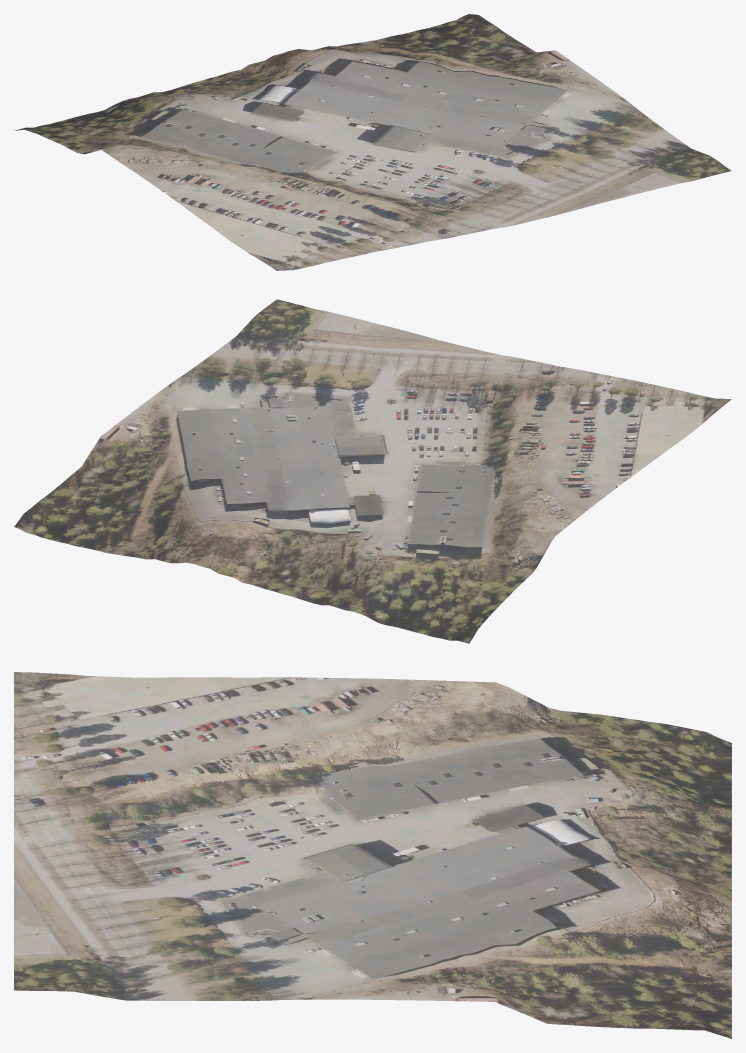
File: CM_Terrain_24492506_6816722.fbx
3 views of the same model, one above another, from view 1: azimuth 30°, elevation 25°; view 2: azimuth 150°, elevation 25°; view 3: azimuth 270°, elevation 25° (orthographic). The views are drawn at different scales.
Parts seen in each view (by area): view 1: CM_Terrain_24492506_6816722_LOD0; view 2: CM_Terrain_24492506_6816722_LOD0; view 3: CM_Terrain_24492506_6816722_LOD0.
Boxes of the visible parts, <box> form: CM_Terrain_24492506_6816722_LOD0: <box>15,14,731,270</box>; CM_Terrain_24492506_6816722_LOD0: <box>14,299,731,643</box>; CM_Terrain_24492506_6816722_LOD0: <box>14,672,731,1038</box>.
Size of what is drawn, in the model's own units: 205 by 23.34 by 205.
